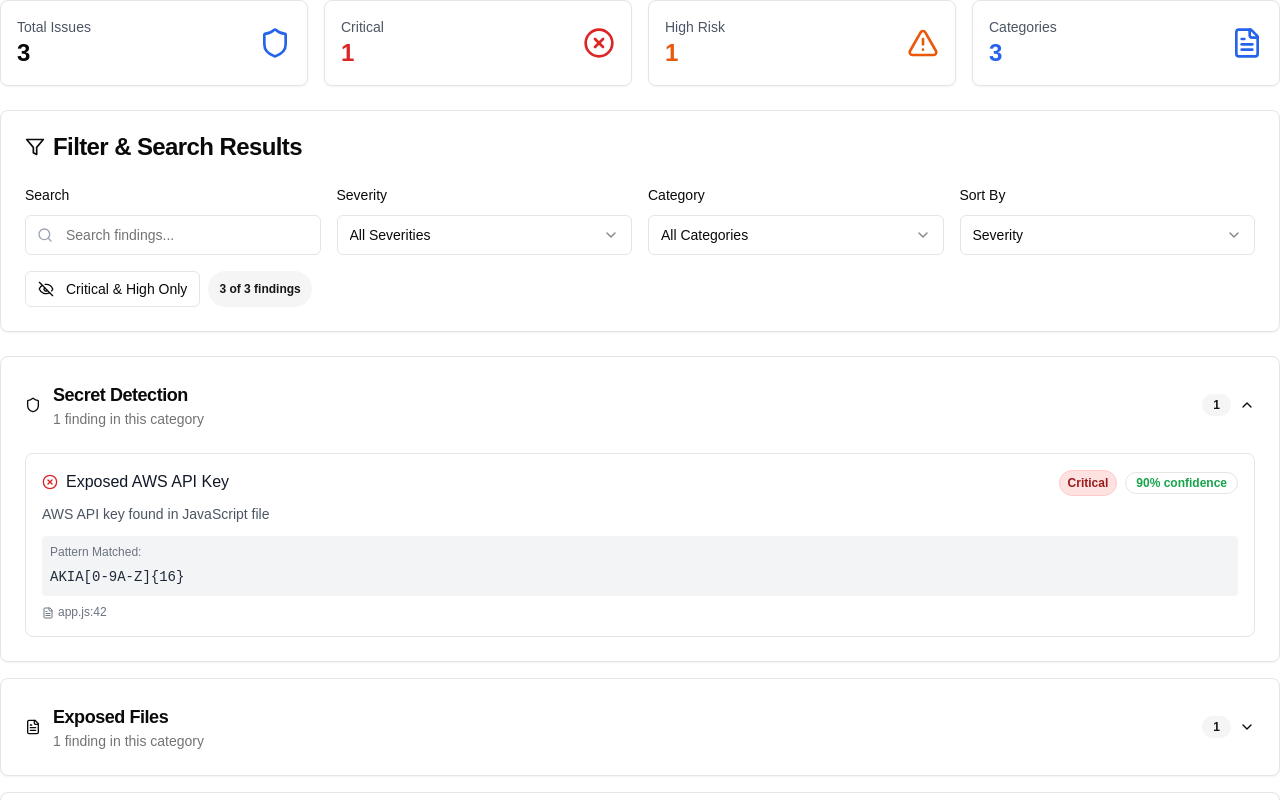
Test: EnhancedResultsDisplay › shows empty state when no findings match filters
This screenshot has width=1280, height=800.
Search for something that doesn't exist
In the field with placeholder "Search findings...": (173, 235) [25, 215, 320, 255], type "nonexistent"
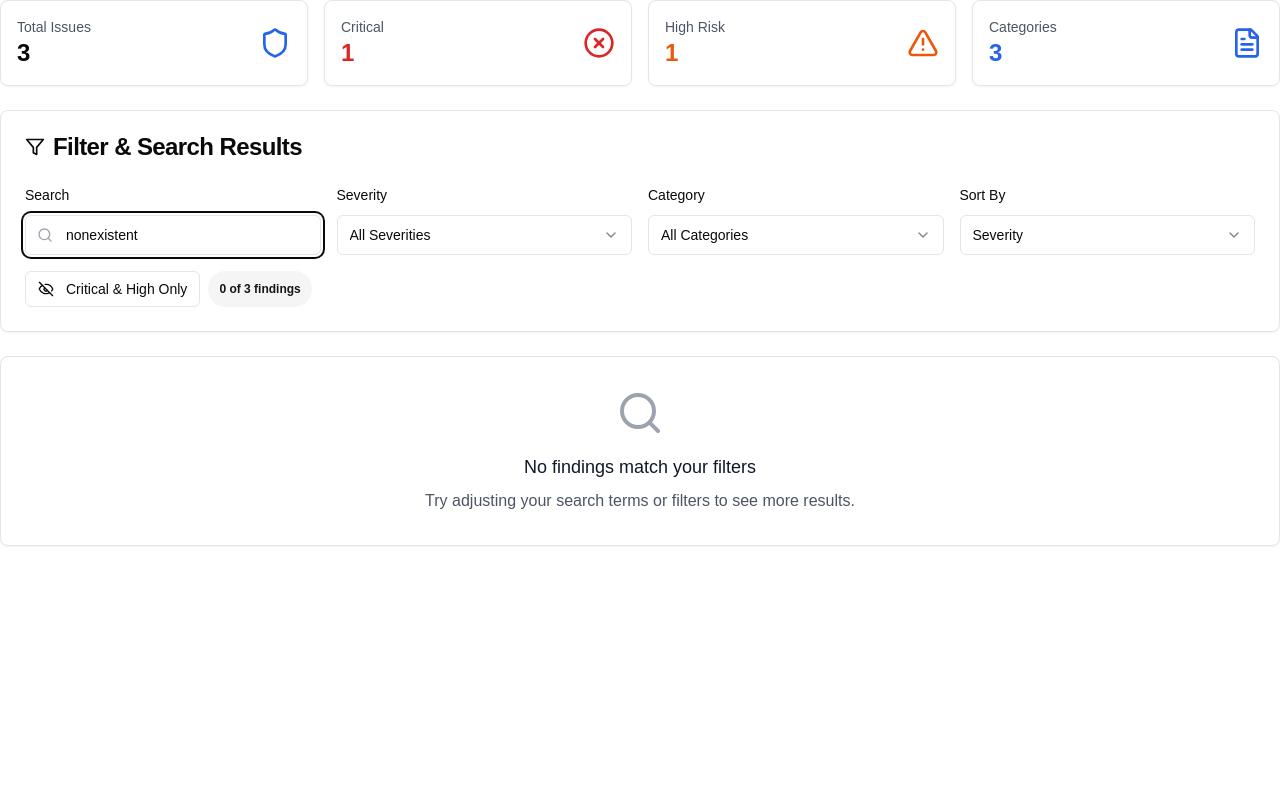
Check: the heading "No findings match your filters" is shown, box [524, 457, 756, 477]
Check: the text "Try adjusting your search terms or filters to see more results." is shown, box [425, 492, 855, 509]
